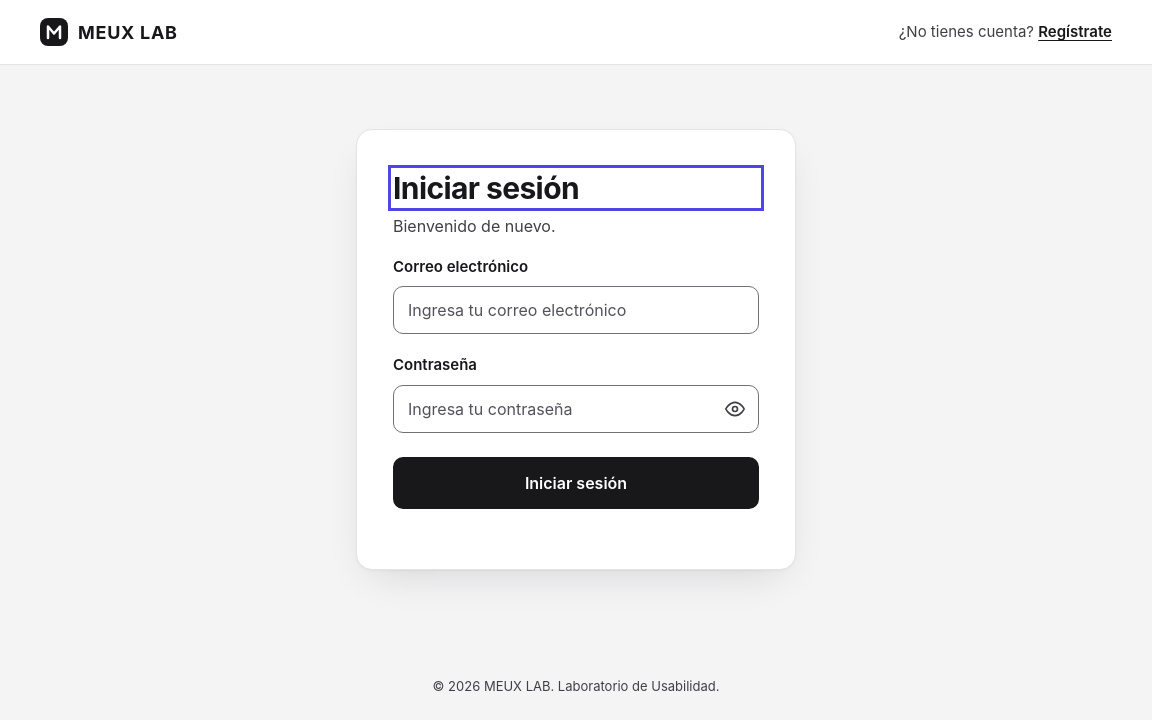
Scenario: LoginScreen › displays empty field error and focuses on the first missing field upon submission
Click the button "Iniciar sesión" at (576, 483), box x1=393 y1=457 x2=759 y2=509
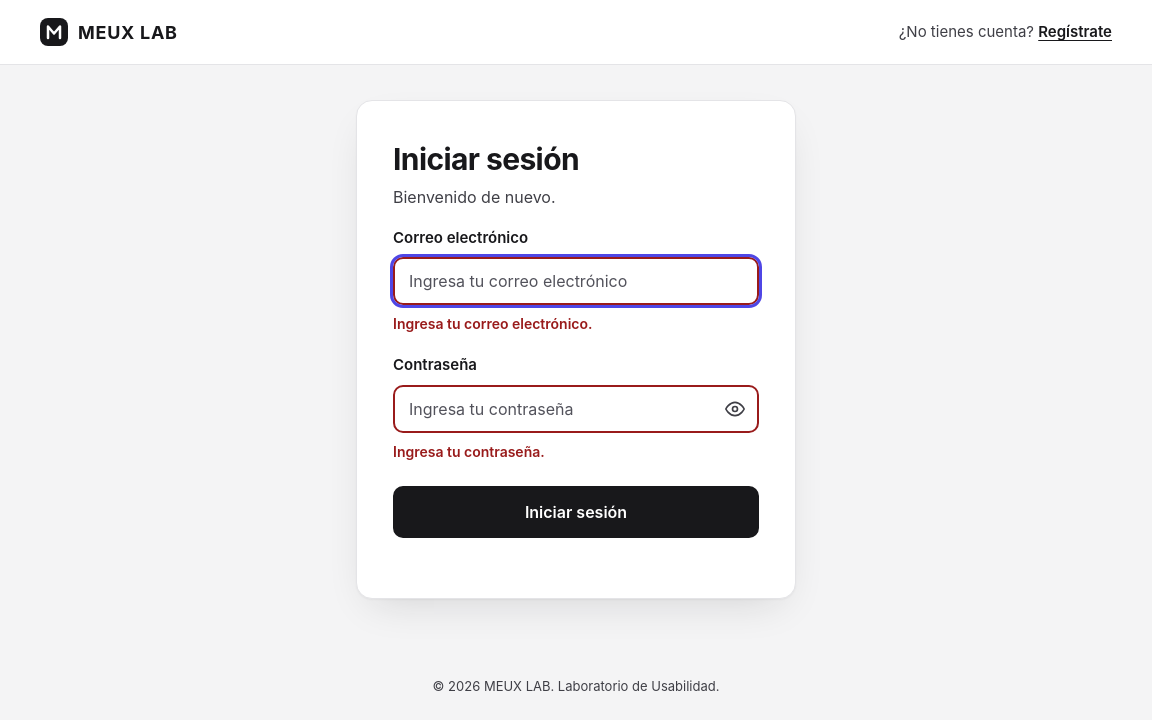
expect the text "Ingresa tu correo electrónico." is shown: met, box x1=393 y1=315 x2=592 y2=332
expect the text "Ingresa tu contraseña." is shown: met, box x1=393 y1=443 x2=545 y2=460
